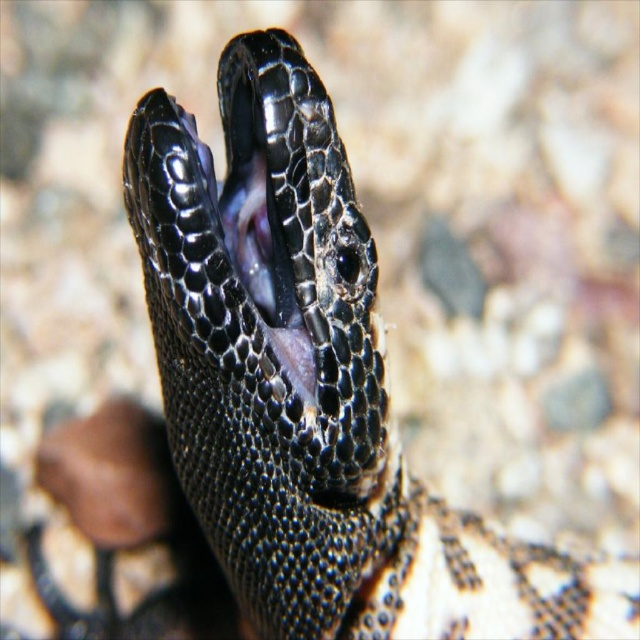Snake: (122, 30, 639, 639)
